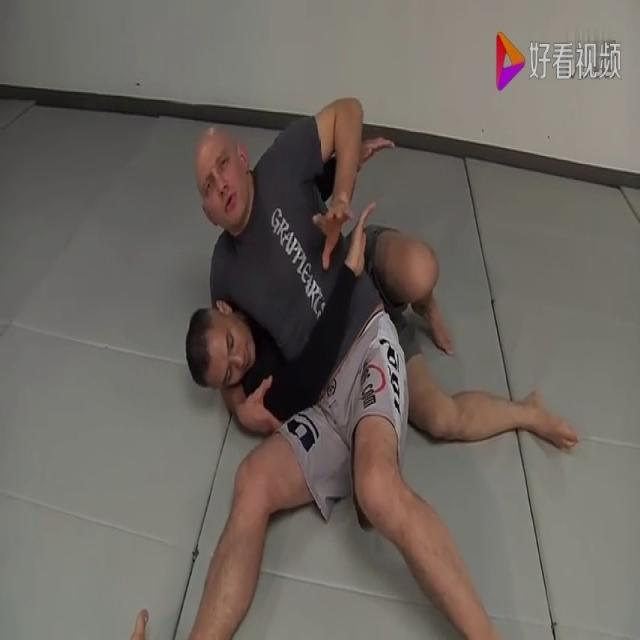fight: (161, 96, 576, 637)
